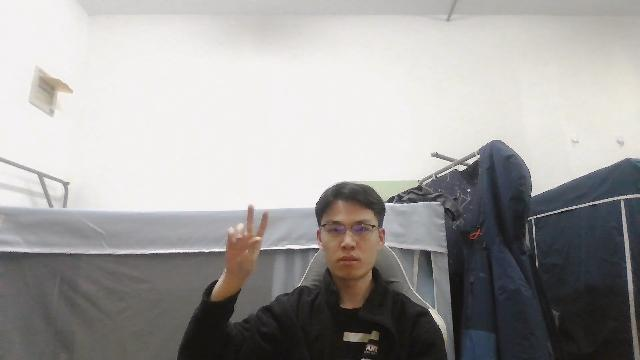yes: (223, 202, 271, 285)
